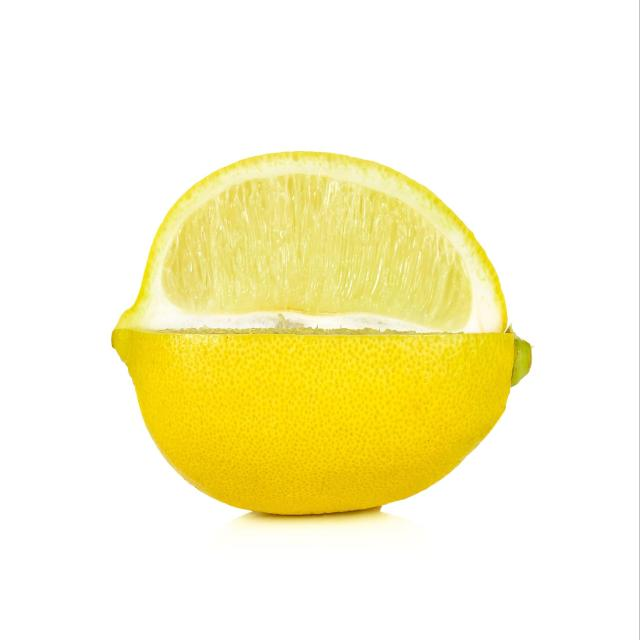lemon: (105, 136, 538, 528)
